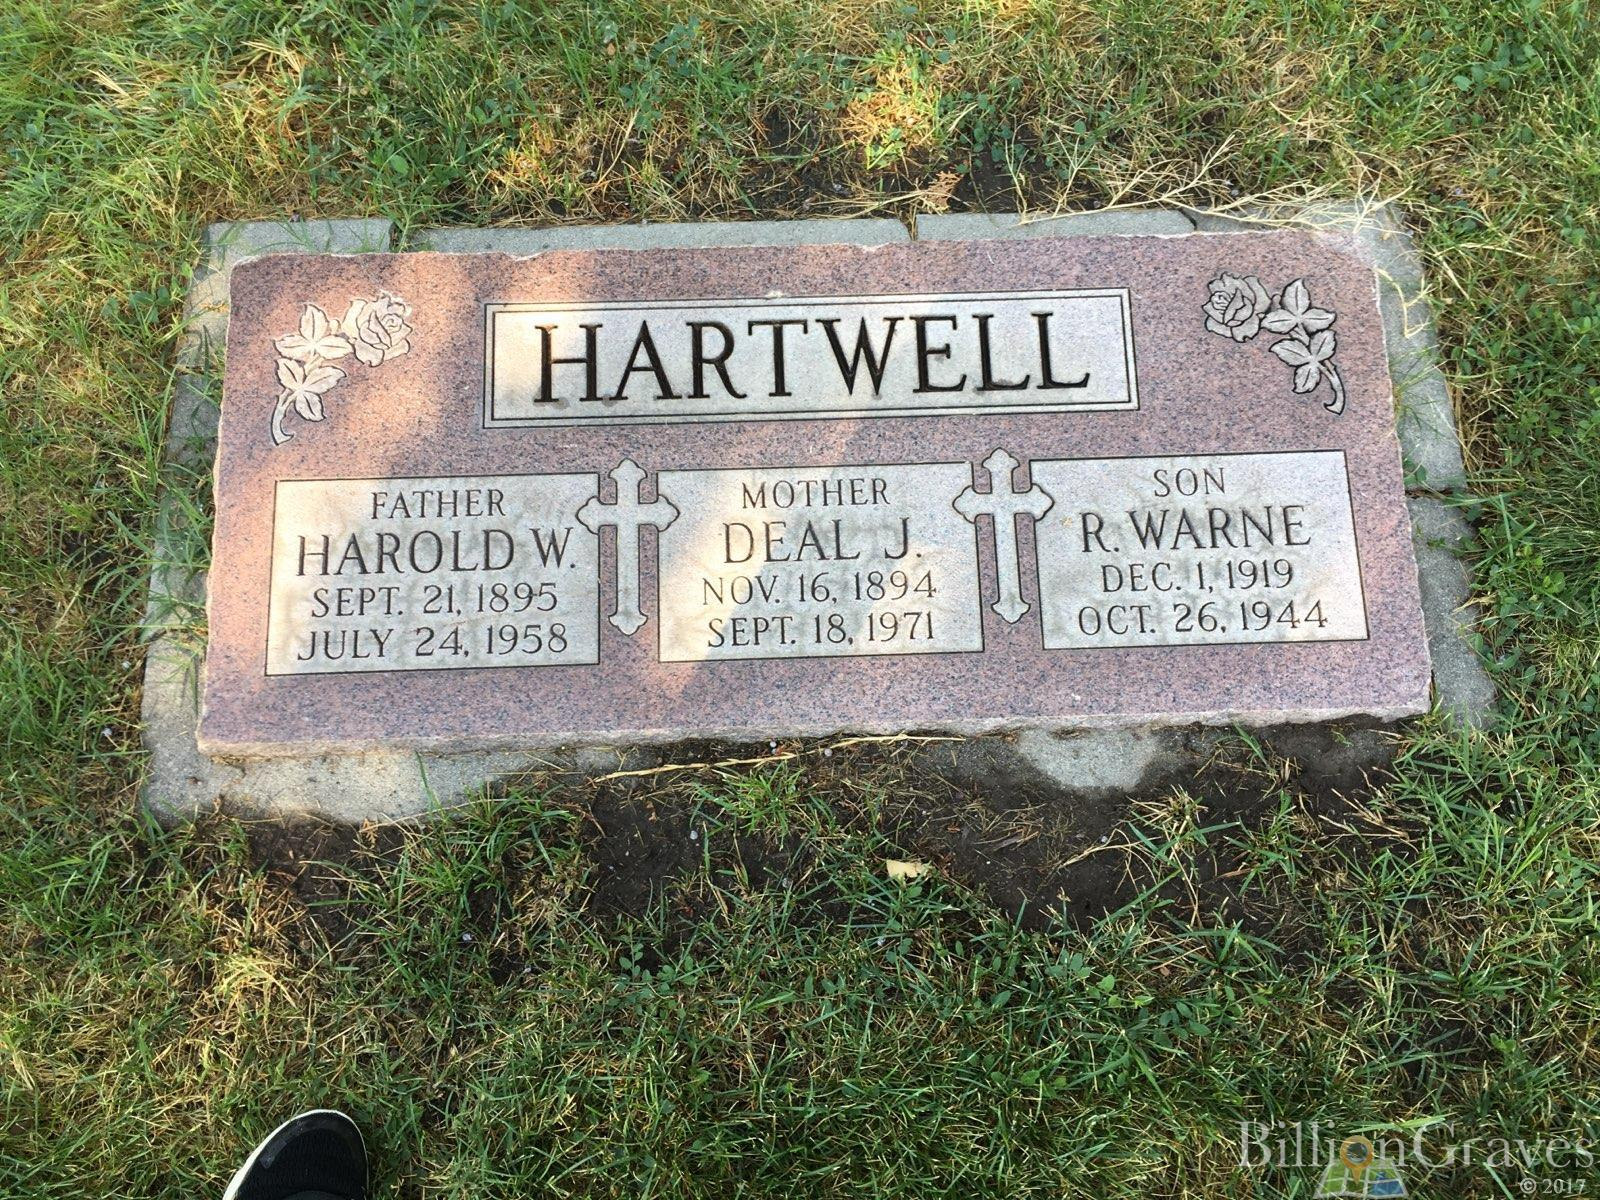flat: (141, 187, 1508, 877)
